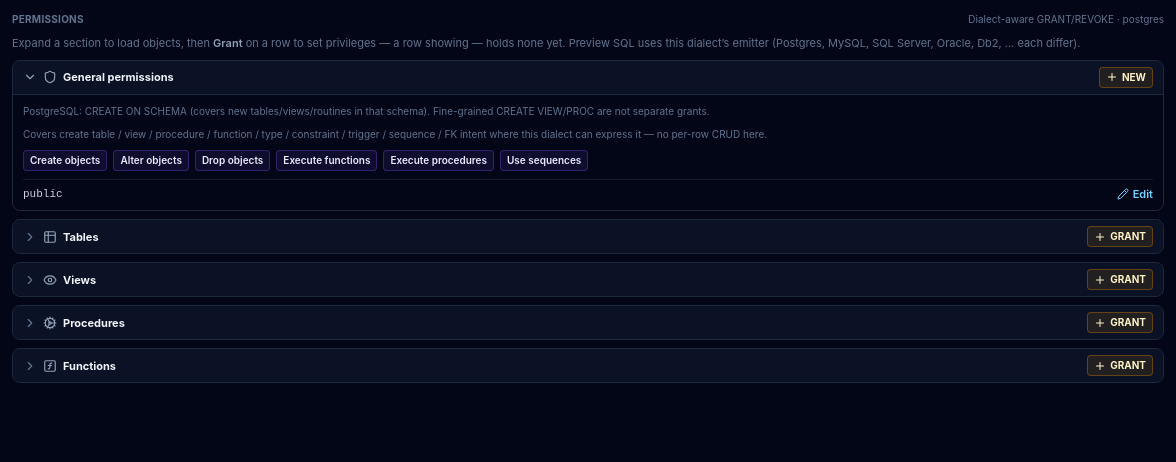
it: how the grid offers to set a permission › offers Edit once the row holds something
The width and height of the screenshot is (1176, 462).
Click the button with test id "db-access-expand-table" at (81, 236), box [23,228,1079,245]
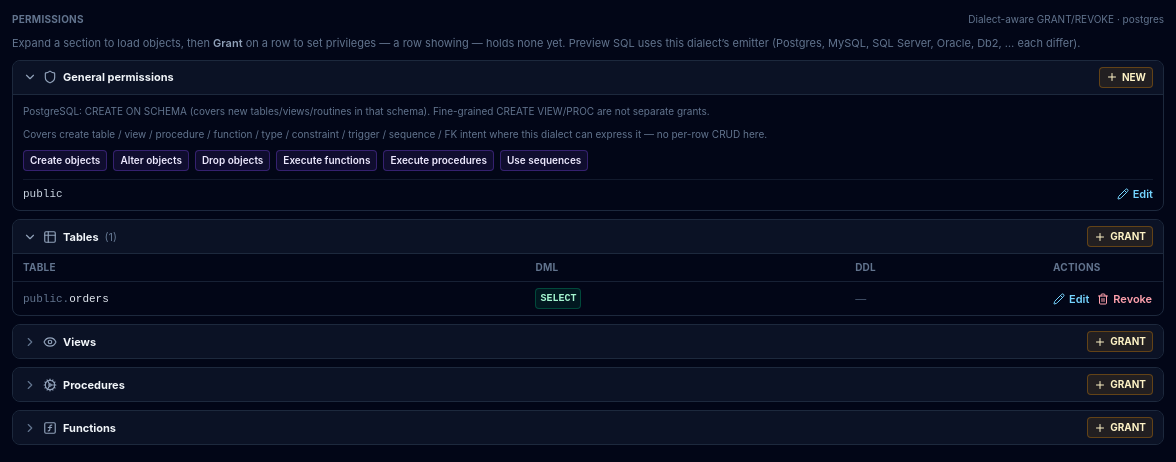
expect the element with test id "db-access-edit-orders" does not show "Grant": met
expect the button with test id "db-access-edit-orders" reads "Edit": met, box [1053,290,1089,307]
